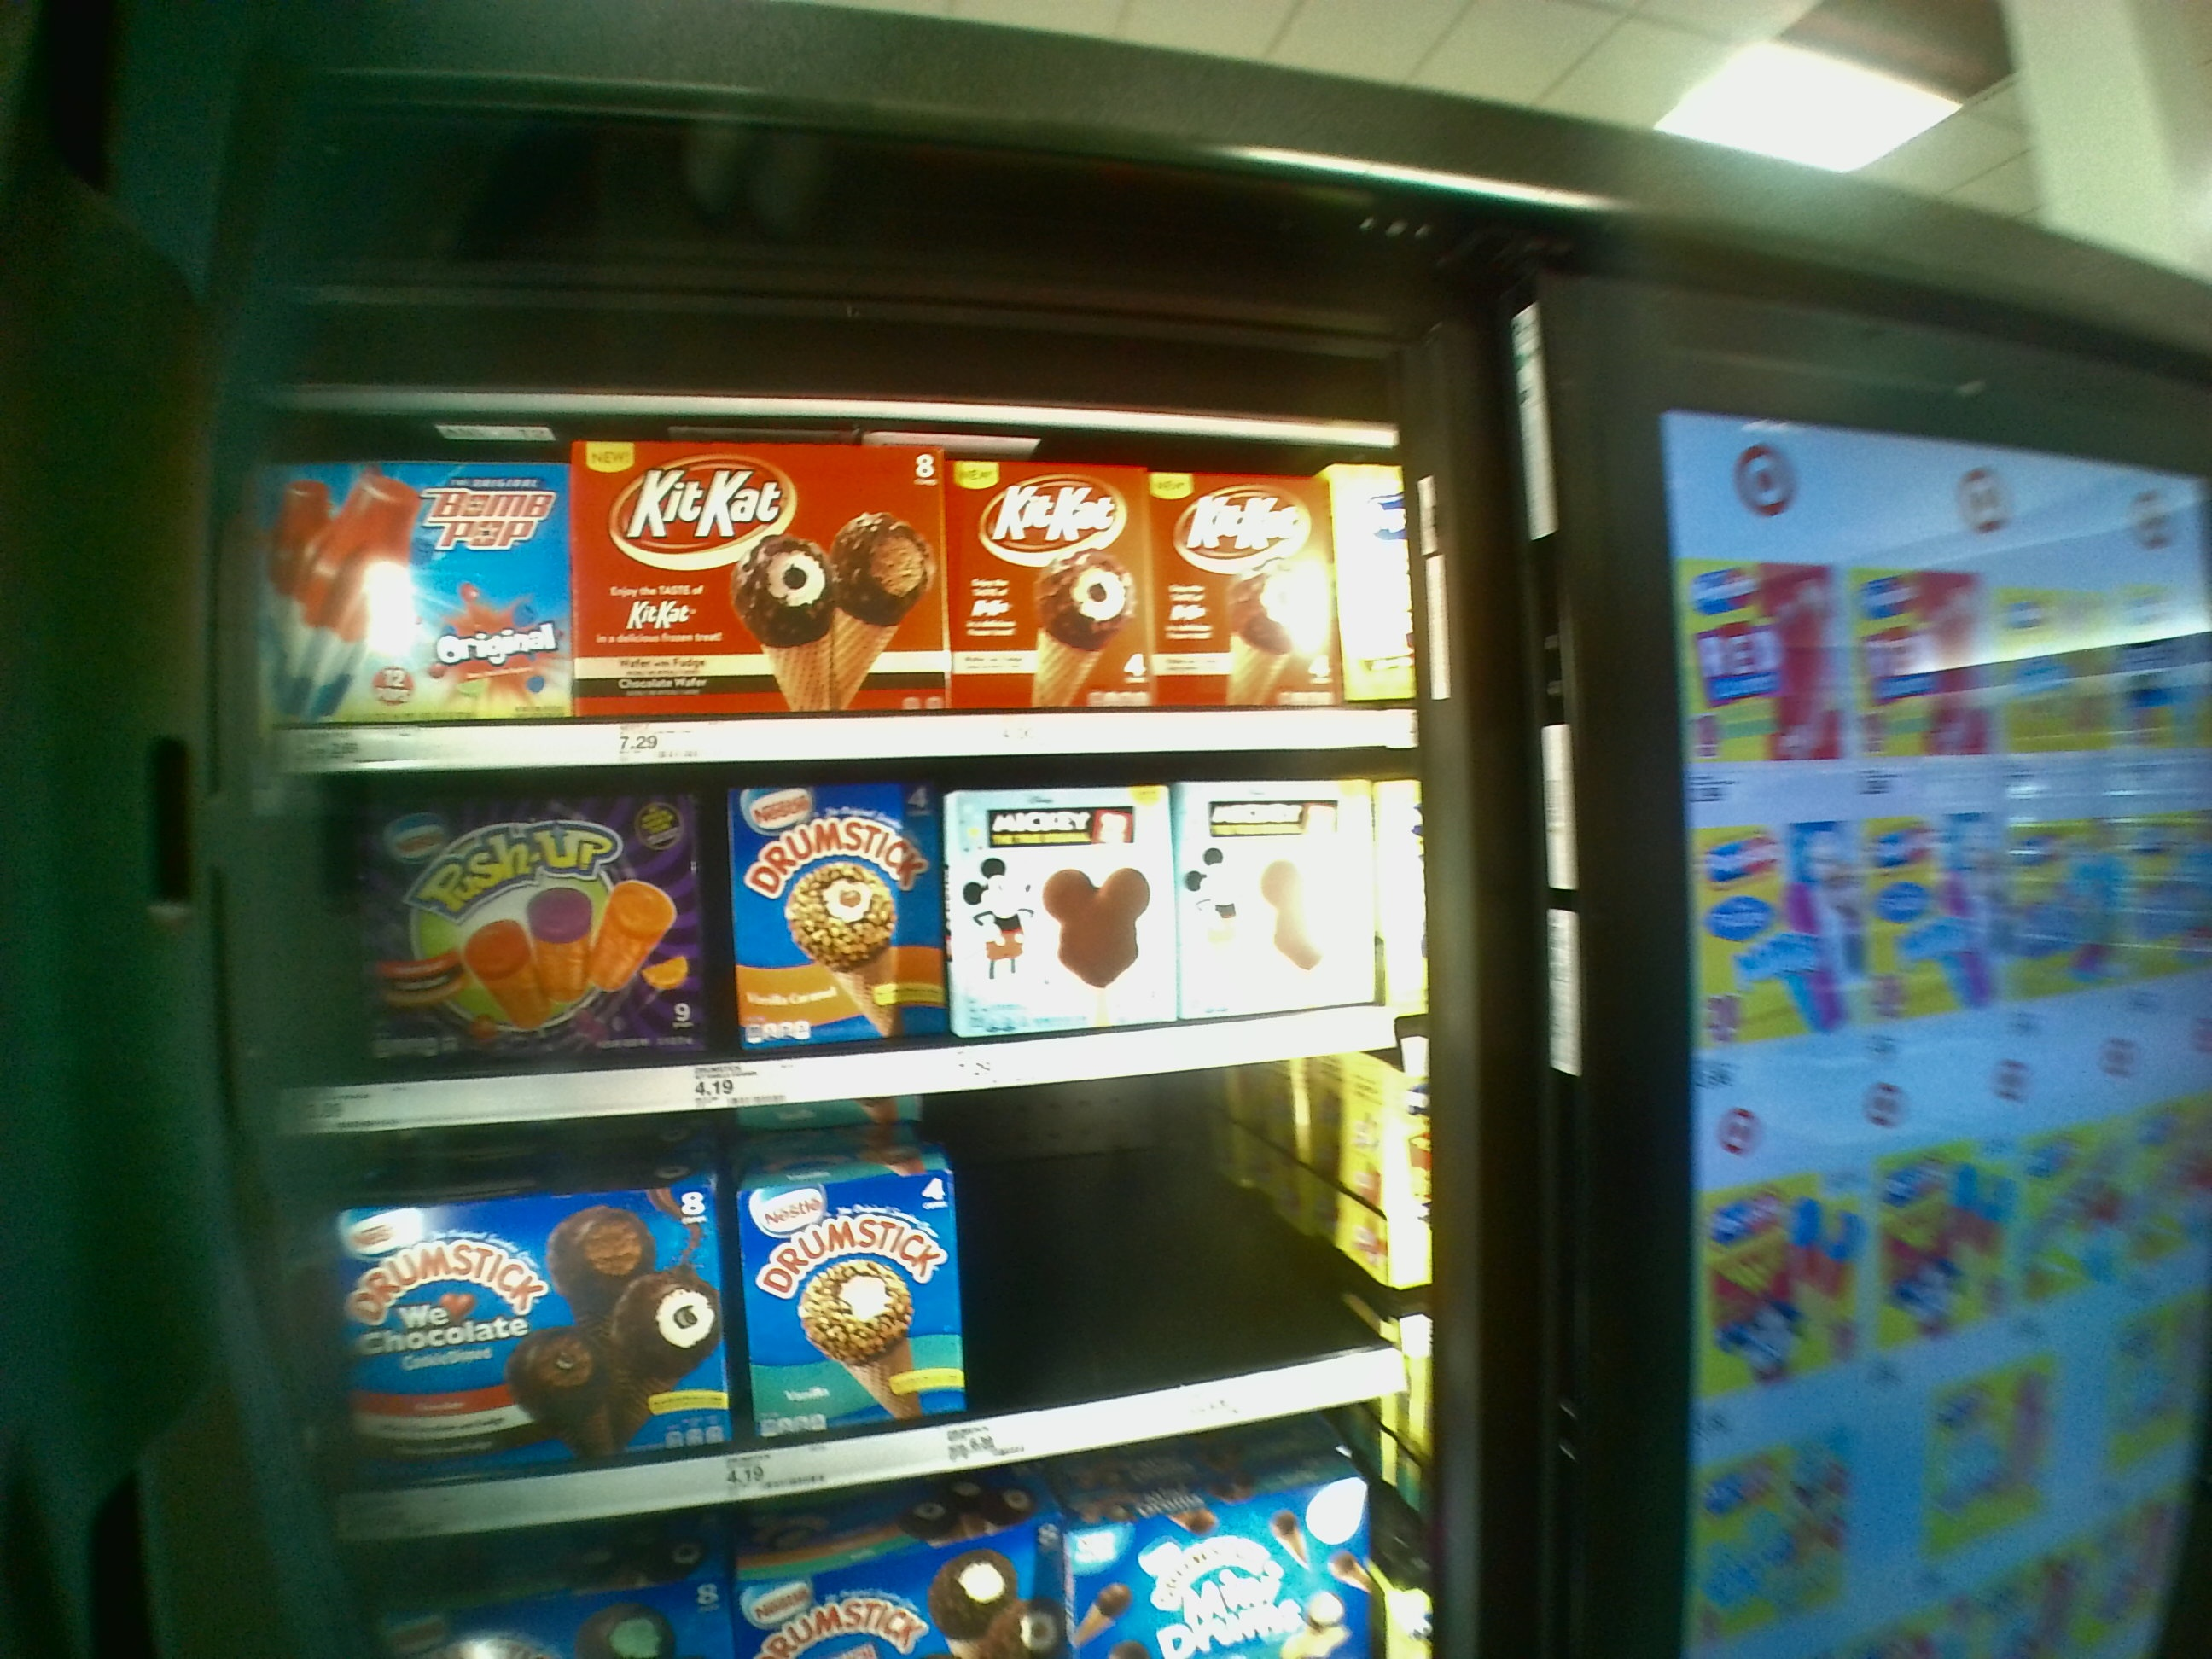shelf: (289, 1101, 1430, 1511), (247, 415, 1416, 774), (256, 770, 1430, 1115)
